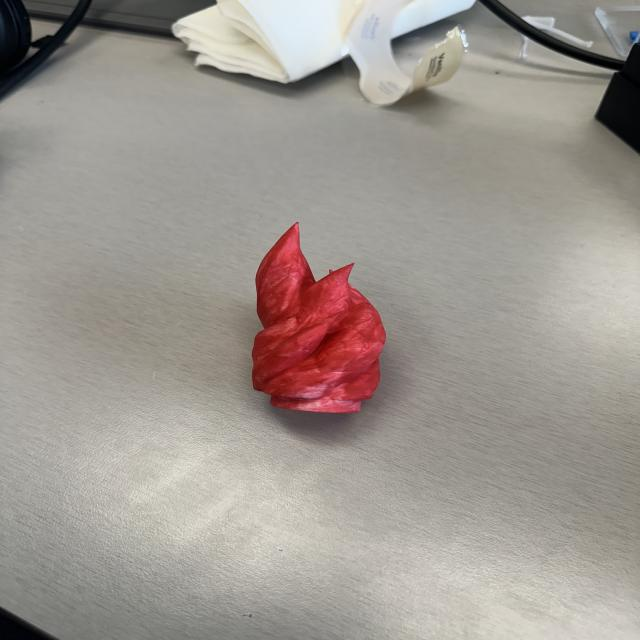fire: (250, 219, 387, 415)
